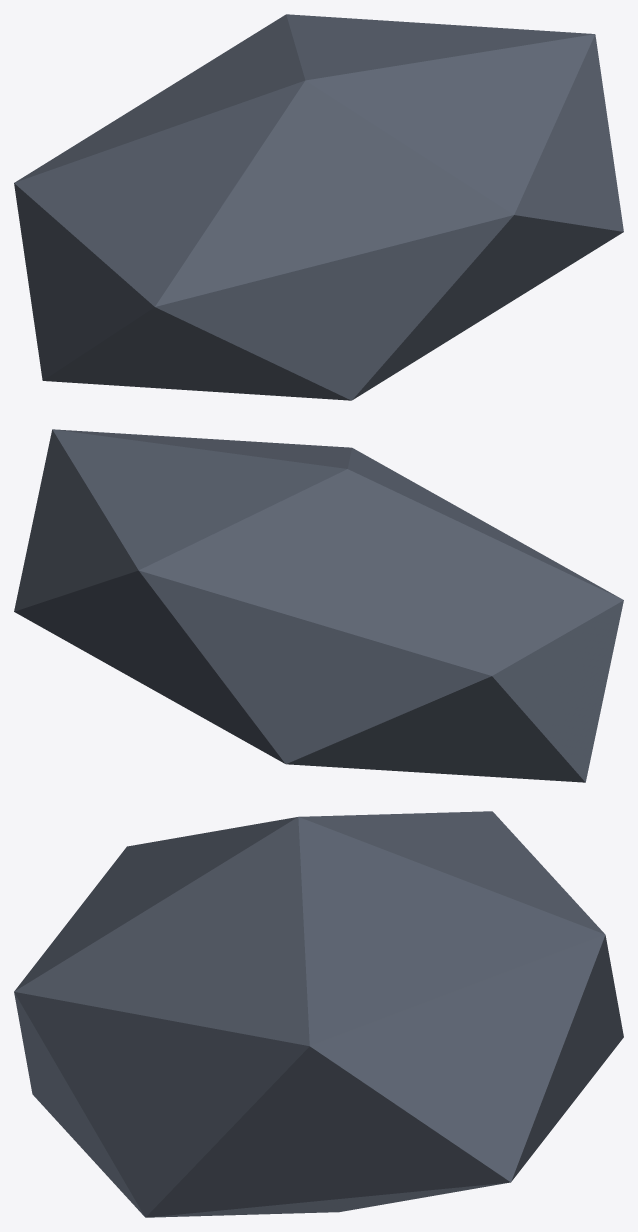
Rendered from EXTG_BranchStone_00.glb.
The picture shows the model from 3 angles, top to bottom: view 1: azimuth 30°, elevation 25°; view 2: azimuth 150°, elevation 25°; view 3: azimuth 270°, elevation 25°; orthographic projection. The views are drawn at different scales.
Parts seen in each view (by area): view 1: EXTG_BranchStone_00; view 2: EXTG_BranchStone_00; view 3: EXTG_BranchStone_00.
Part boxes in pixels (box(x1,y1,x2,y2)): EXTG_BranchStone_00: box(14, 14, 623, 400); EXTG_BranchStone_00: box(14, 429, 623, 782); EXTG_BranchStone_00: box(14, 811, 623, 1217).
Bounding box in the file's own units: 1.06 × 0.5108 × 0.768.
